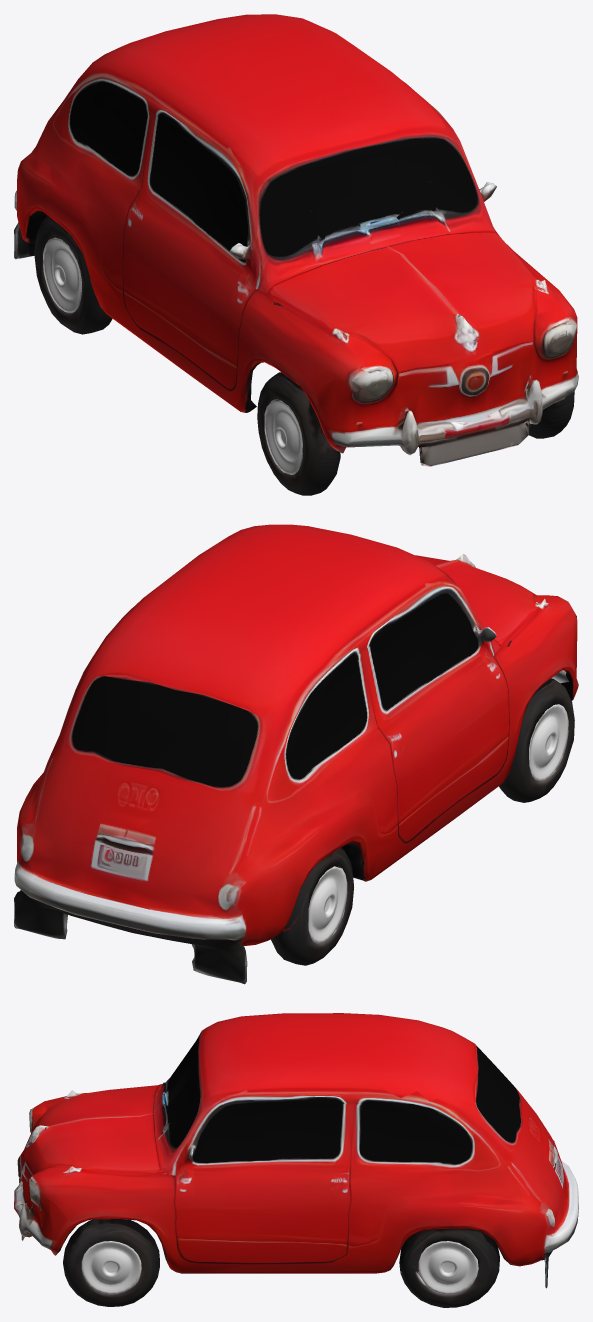
File: seat600_low.fbx
3 views of the same model, one above another, from view 1: azimuth 30°, elevation 25°; view 2: azimuth 150°, elevation 25°; view 3: azimuth 270°, elevation 25° (orthographic). The views are drawn at different scales.
Parts seen in each view (by area): view 1: 600, 600.004, 600.002; view 2: 600, 600.002, 600.004; view 3: 600, 600.001, 600.003.
Boxes of the visible parts, x1=… form: 600: x1=14, y1=14, x2=578, y2=495; 600.004: x1=43, y1=237, x2=81, y2=312; 600.002: x1=264, y1=399, x2=302, y2=474; 600: x1=14, y1=524, x2=578, y2=984; 600.002: x1=529, y1=704, x2=568, y2=781; 600.004: x1=308, y1=866, x2=347, y2=943; 600: x1=14, y1=1013, x2=578, y2=1307; 600.001: x1=81, y1=1241, x2=141, y2=1294; 600.003: x1=418, y1=1241, x2=478, y2=1294.
Size of the model in its own units: 58.5 by 58.23 by 133.
